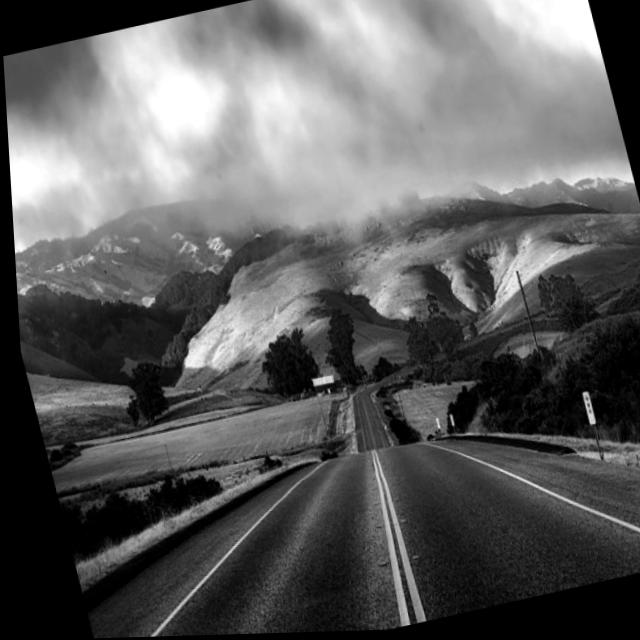cleat: (153, 259, 640, 636)
